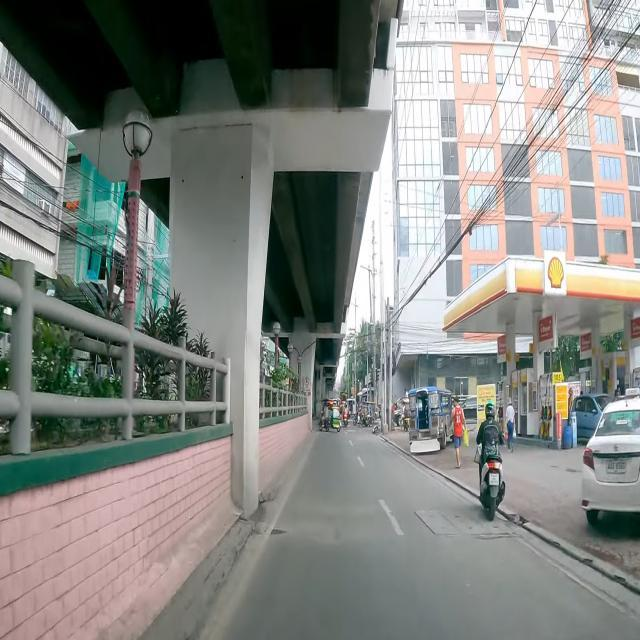car: (581, 387, 640, 523), (570, 393, 614, 443)
jeepney: (408, 386, 453, 453)
motorcycle: (476, 402, 505, 520), (353, 402, 363, 426), (343, 404, 349, 426)
tricycle: (318, 402, 342, 432), (362, 401, 376, 427)
truck: (328, 390, 339, 400)
